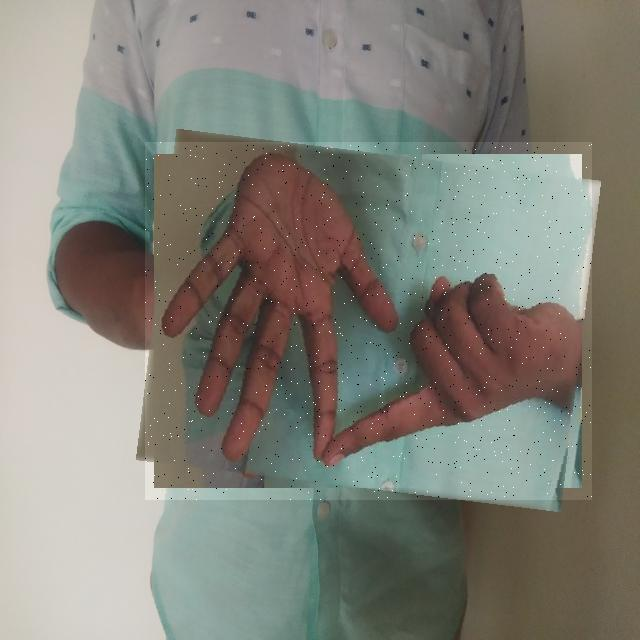E: (145, 142, 592, 500)
